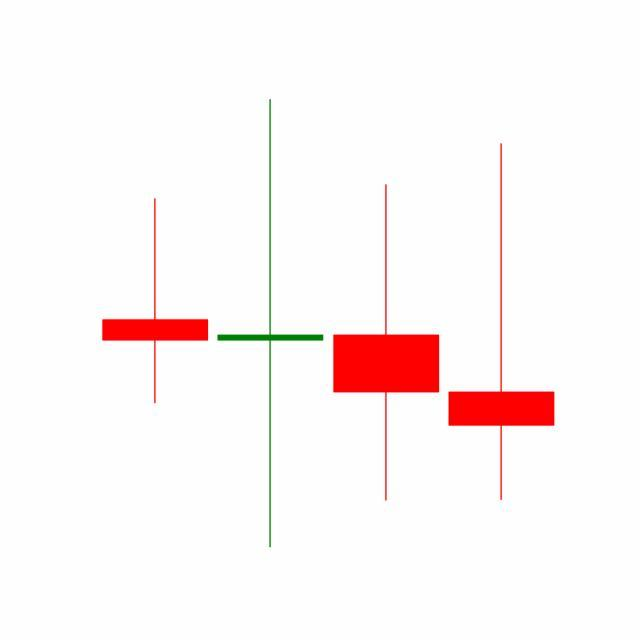Spinning Top: (444, 141, 560, 506)
